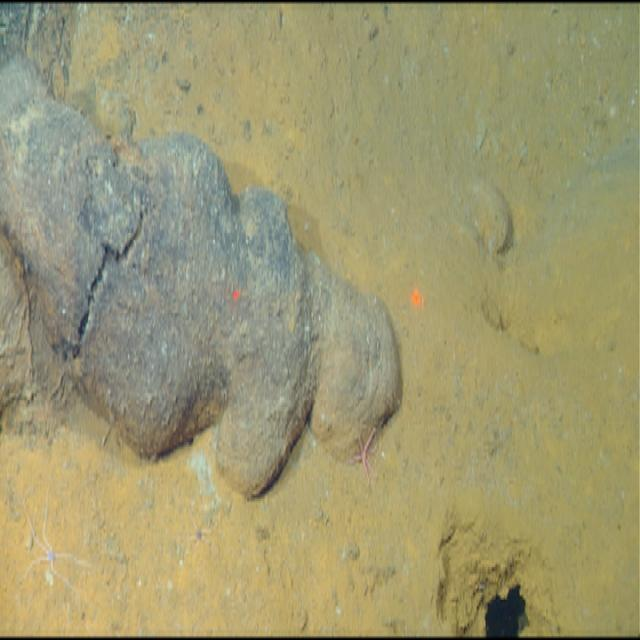Brittle Star: (12, 489, 92, 600)
